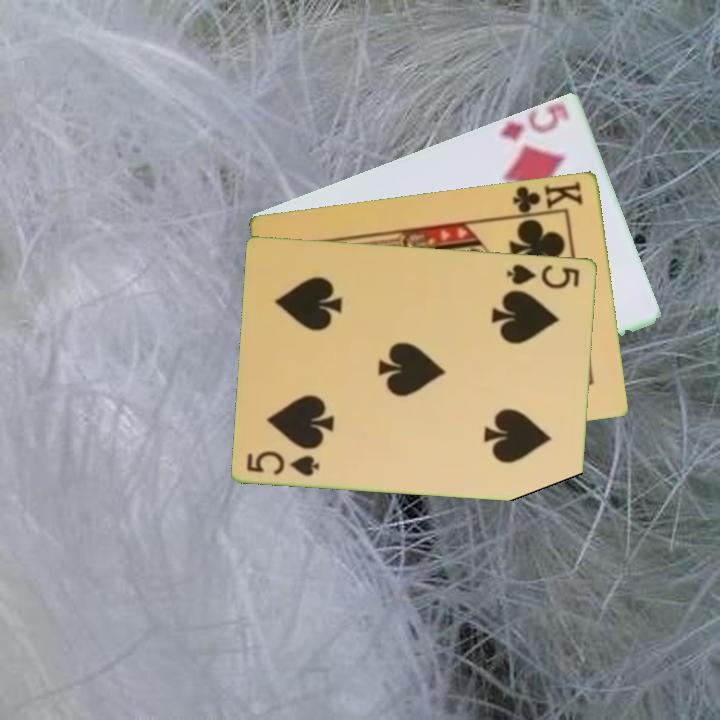5d: (495, 103, 570, 144)
5s: (503, 260, 583, 292), (244, 447, 323, 479)
Kc: (508, 177, 586, 219)
